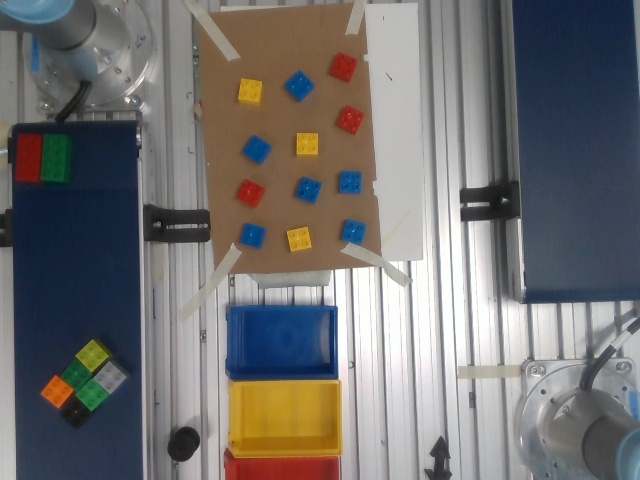duplo_4_blue: (239, 128, 274, 166), (283, 65, 315, 103), (292, 170, 324, 207), (334, 165, 365, 198), (237, 219, 267, 251), (338, 218, 370, 247)
duplo_4_red: (233, 172, 268, 211), (327, 48, 359, 84), (335, 101, 367, 135)
duplo_4_yellow: (234, 75, 265, 109), (287, 221, 312, 257), (291, 131, 321, 160)
